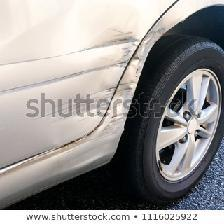door_dent: (52, 25, 178, 149)
